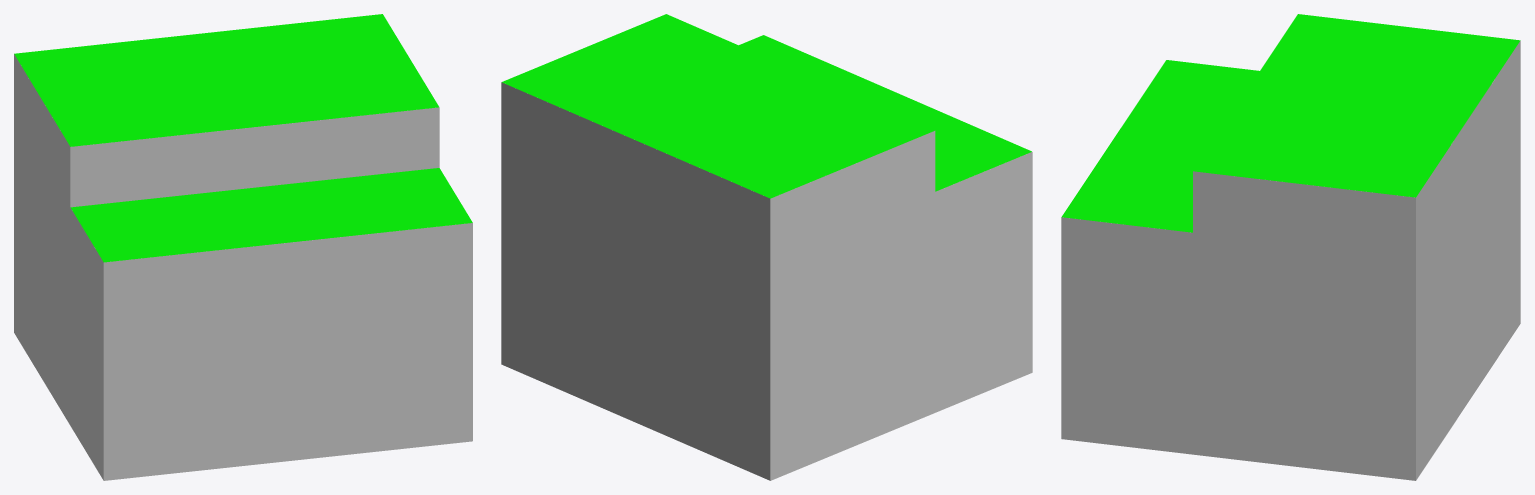
Rendered from DEHB01ALj0003B2C.gltf.
The picture shows the model from 3 angles, left to right: view 1: azimuth 30°, elevation 25°; view 2: azimuth 150°, elevation 25°; view 3: azimuth 270°, elevation 25°; orthographic projection.
Visible parts, largest first — view 1: Z_UP; view 2: Z_UP; view 3: Z_UP.
Part boxes in pixels (bbox=[...]): Z_UP: bbox=[14, 14, 472, 480]; Z_UP: bbox=[501, 14, 1032, 480]; Z_UP: bbox=[1061, 14, 1520, 480].
Size of the model in its own units: 19.19 by 12.73 by 18.7.
